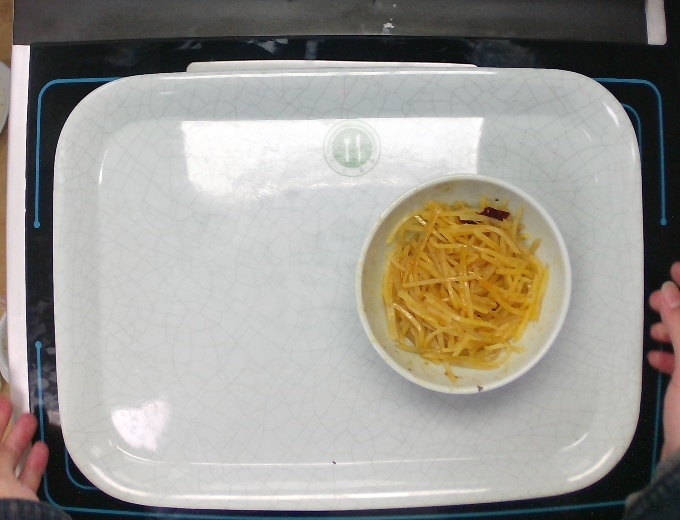JYsf-Fan_Wan: (353, 169, 575, 397)
